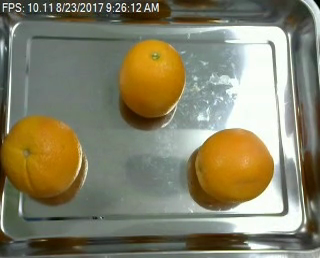Orange: (0, 116, 83, 198), (193, 125, 274, 201), (119, 40, 185, 118)
